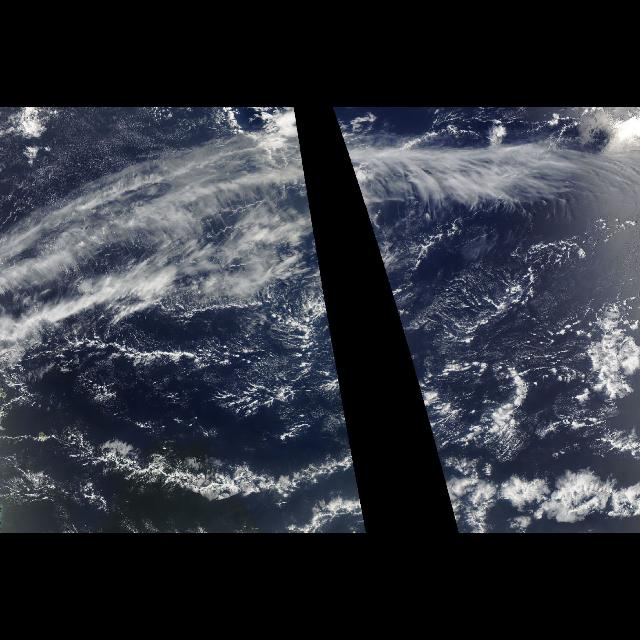Fish: (4, 430, 346, 518)
Gravel: (418, 216, 640, 494)
Sugar: (1, 108, 261, 198)
